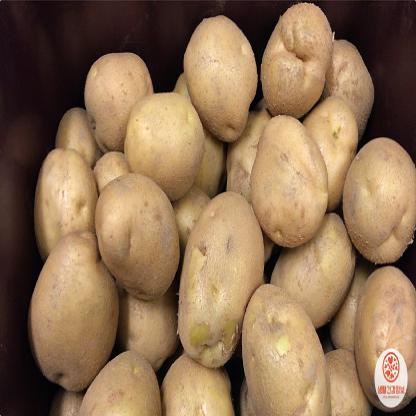potato: (24, 228, 126, 394), (179, 193, 265, 374), (94, 167, 183, 311), (244, 279, 332, 412), (248, 111, 328, 245), (183, 16, 260, 154), (341, 129, 410, 281), (125, 90, 204, 192), (82, 51, 154, 152)
